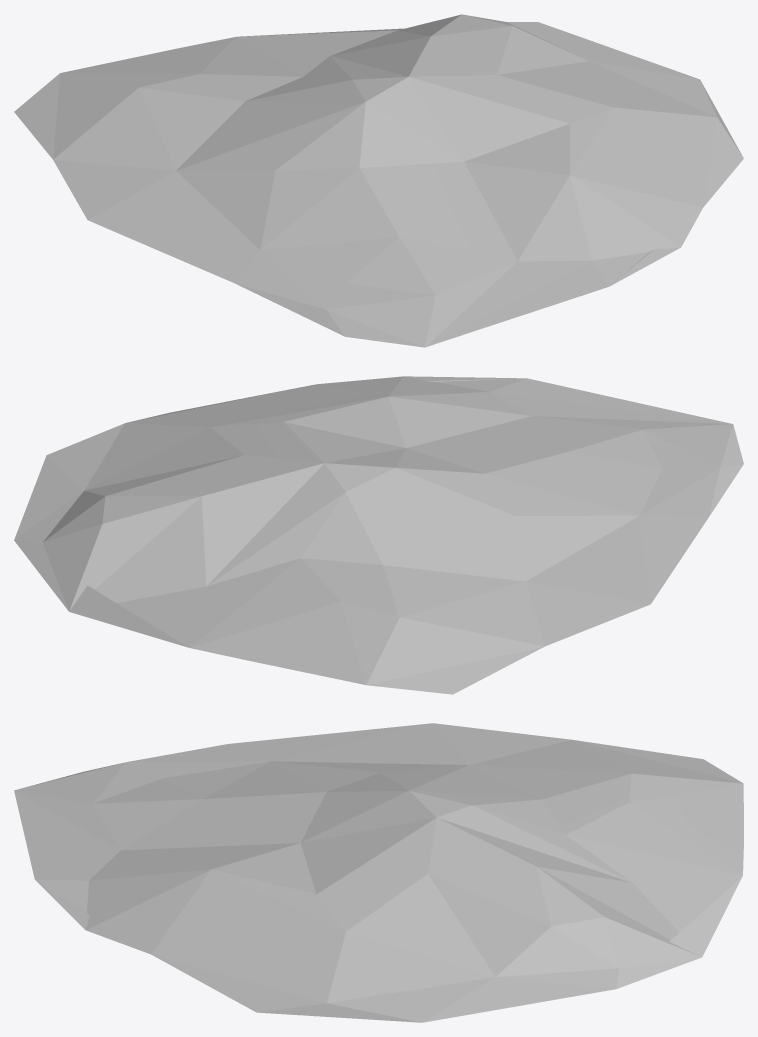
File: Mud_01.fbx
The picture shows the model from 3 angles, top to bottom: view 1: azimuth 30°, elevation 25°; view 2: azimuth 150°, elevation 25°; view 3: azimuth 270°, elevation 25°; orthographic projection.
Visible parts, largest first — view 1: Mud_01; view 2: Mud_01; view 3: Mud_01.
Part boxes in pixels (bbox=[...]): Mud_01: bbox=[14, 14, 743, 347]; Mud_01: bbox=[14, 376, 743, 694]; Mud_01: bbox=[14, 723, 743, 1022].
Bounding box in the file's own units: 1.94 × 0.2459 × 2.02.
